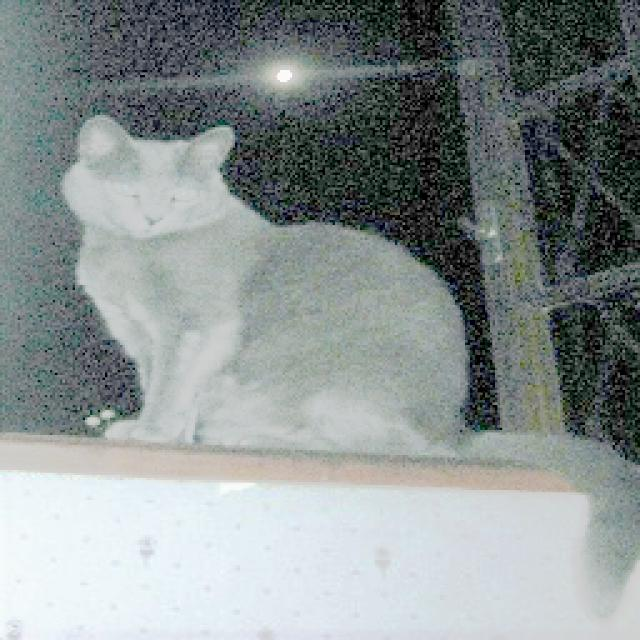cat: (43, 84, 640, 618)
